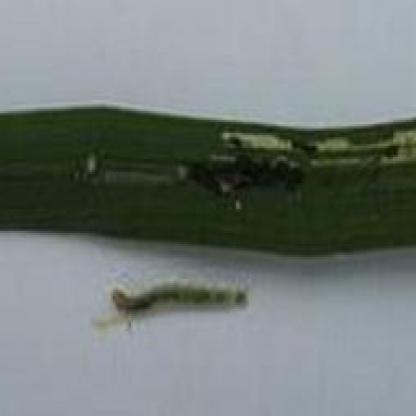leaf-folder: (96, 267, 254, 323)
